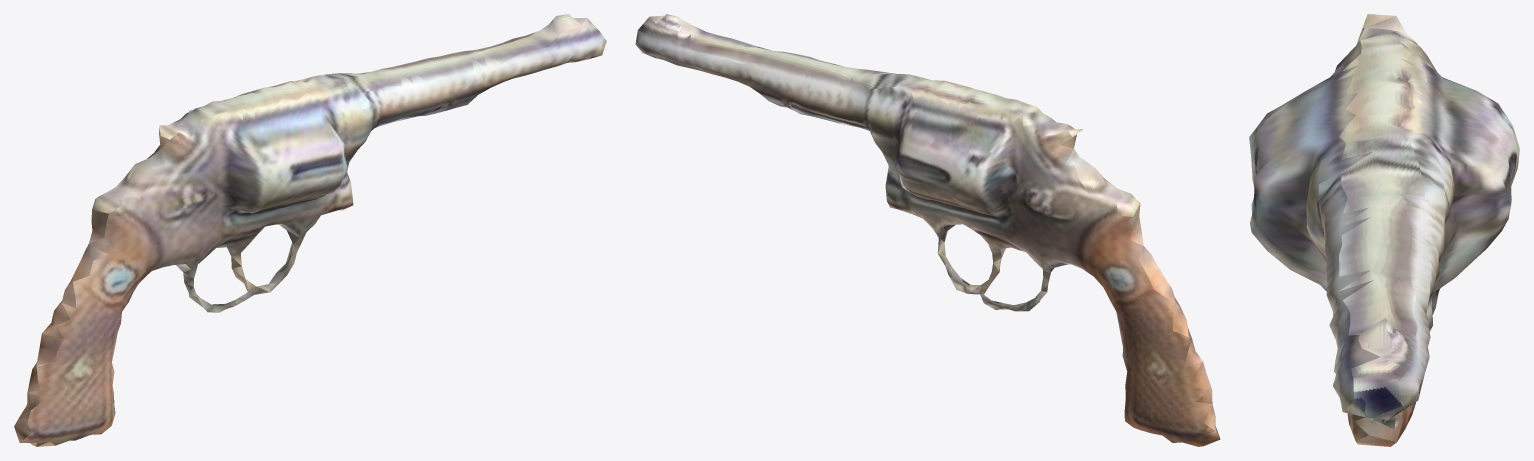
Rendered from revolver1.glb.
The picture shows the model from 3 angles, left to right: view 1: azimuth 30°, elevation 25°; view 2: azimuth 150°, elevation 25°; view 3: azimuth 270°, elevation 25°; orthographic projection. The views are drawn at different scales.
Parts seen in each view (by area): view 1: geometry_0.021; view 2: geometry_0.021; view 3: geometry_0.021.
Part boxes in pixels (x1,y1,x2,y2): geometry_0.021: (14,14,606,446); geometry_0.021: (635,14,1220,446); geometry_0.021: (1249,14,1519,446).
Size of the model in its own units: 0.305 by 0.1524 by 0.0717.
Materials: 1 (1 with a texture image).
